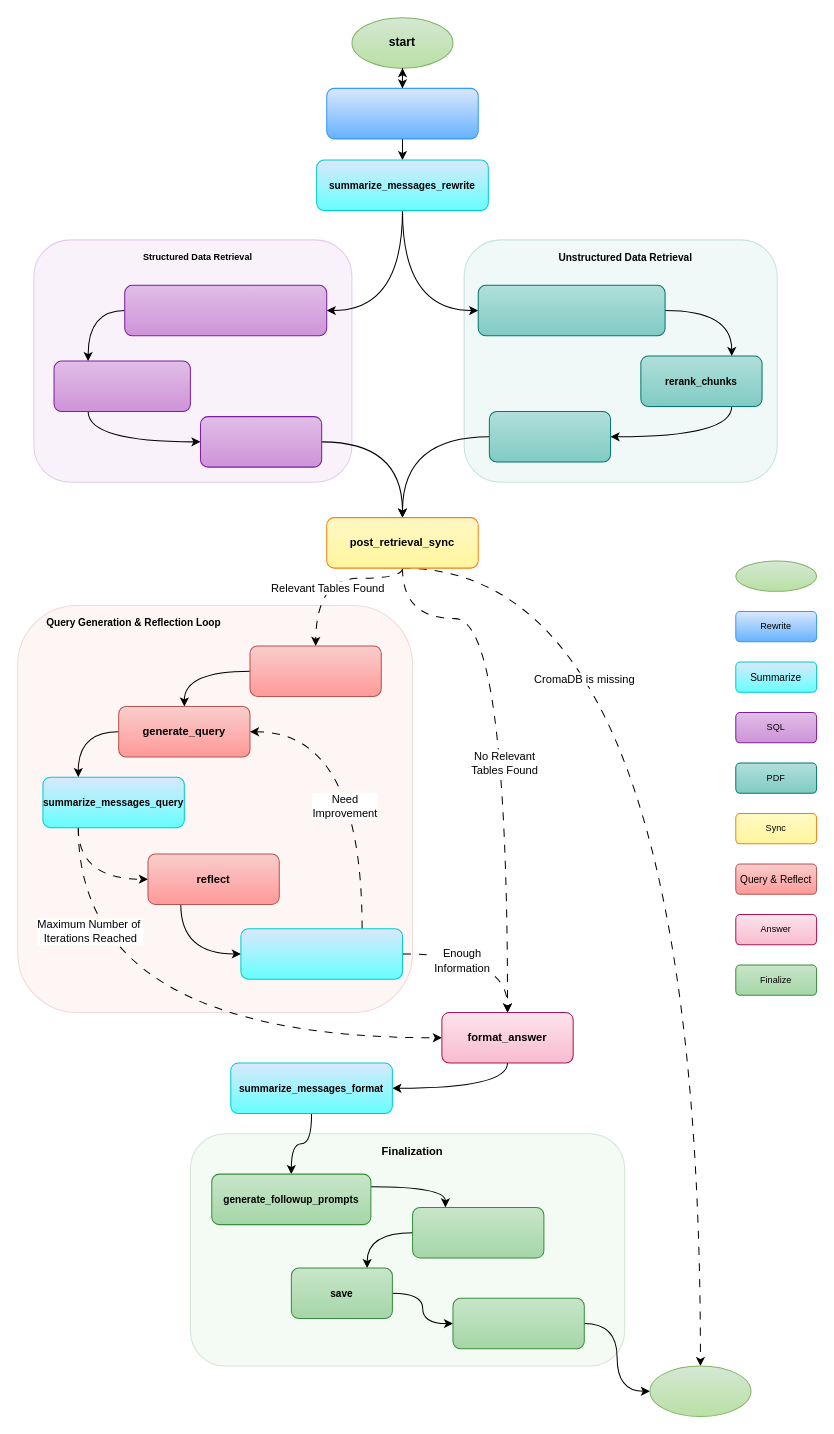
This 834x1434 diagram has some shape labels left out. Each missing label, with the centre of its shape:
"__end__" belongs at (x=700, y=1391).
"cleanup_resources" belongs at (x=518, y=1323).
"get_schema" belongs at (x=315, y=670).
"relevant_chunks" belongs at (x=549, y=436).
"relevant_selections" belongs at (x=260, y=441).
"rerank_table_descriptions" belongs at (x=121, y=386).
"retrieve_similar_chunks_hybrid_search" belongs at (x=571, y=310).
"retrieve_similar_selections_hybrid_search" belongs at (x=225, y=310).
"rewrite_prompt" belongs at (x=402, y=113).
"Start/End" belongs at (x=776, y=575).
"submit_final_answer" belongs at (x=478, y=1232).
"summarize_messages_reflect" belongs at (x=321, y=953).
